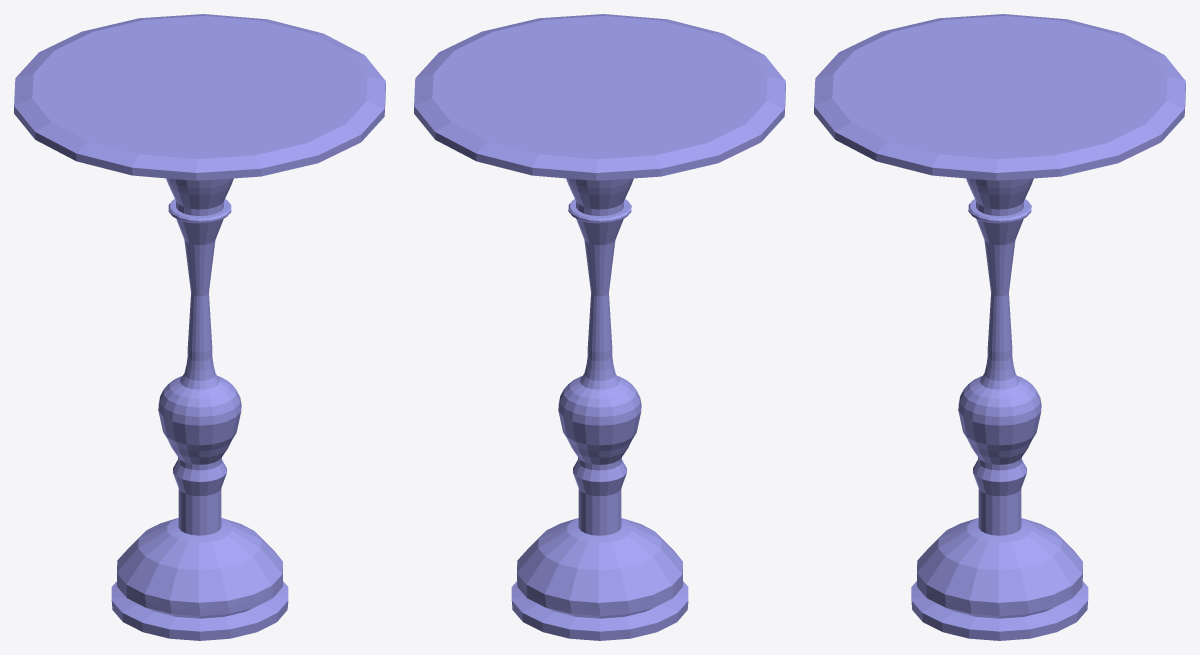
File: Table.dae
The picture shows the model from 3 angles, left to right: view 1: azimuth 30°, elevation 25°; view 2: azimuth 150°, elevation 25°; view 3: azimuth 270°, elevation 25°; orthographic projection.
Parts seen in each view (by area): view 1: table; view 2: table; view 3: table.
Part boxes in pixels (x1,y1,x2,y2): table: (14,14,385,640); table: (414,14,785,640); table: (814,14,1185,640).
Bounding box in the file's own units: 29.99 × 29.63 × 45.36.
